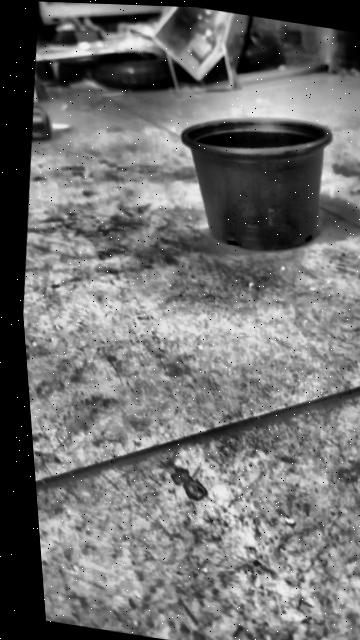pot: (167, 101, 343, 262)
